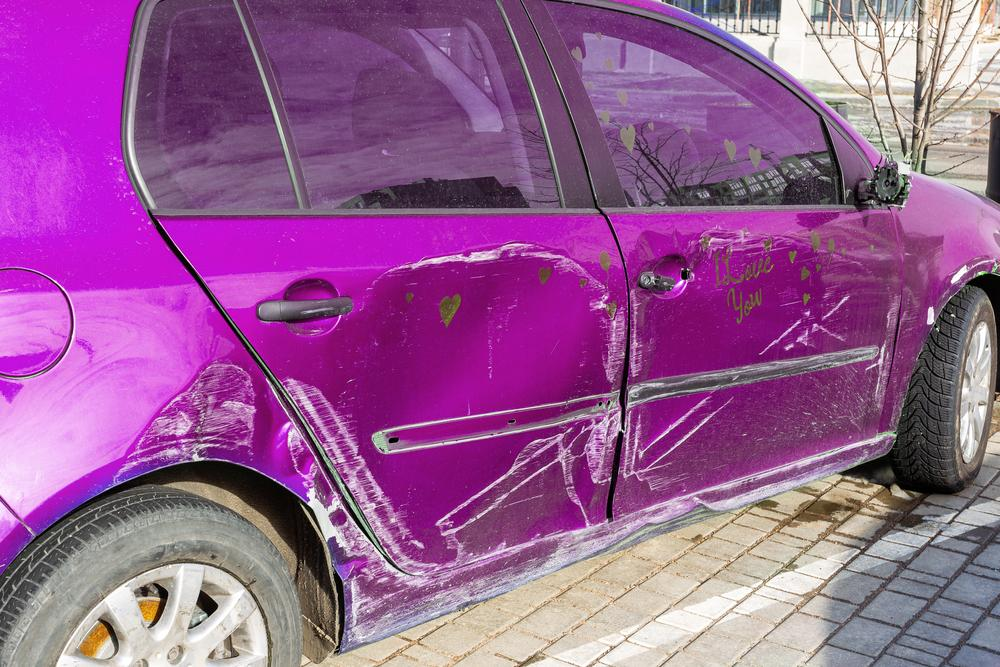dent: (329, 243, 611, 534), (130, 355, 315, 490)
scratch: (305, 440, 871, 652), (278, 308, 628, 574), (621, 389, 740, 490), (755, 287, 852, 354), (871, 295, 902, 408), (631, 288, 649, 380)
